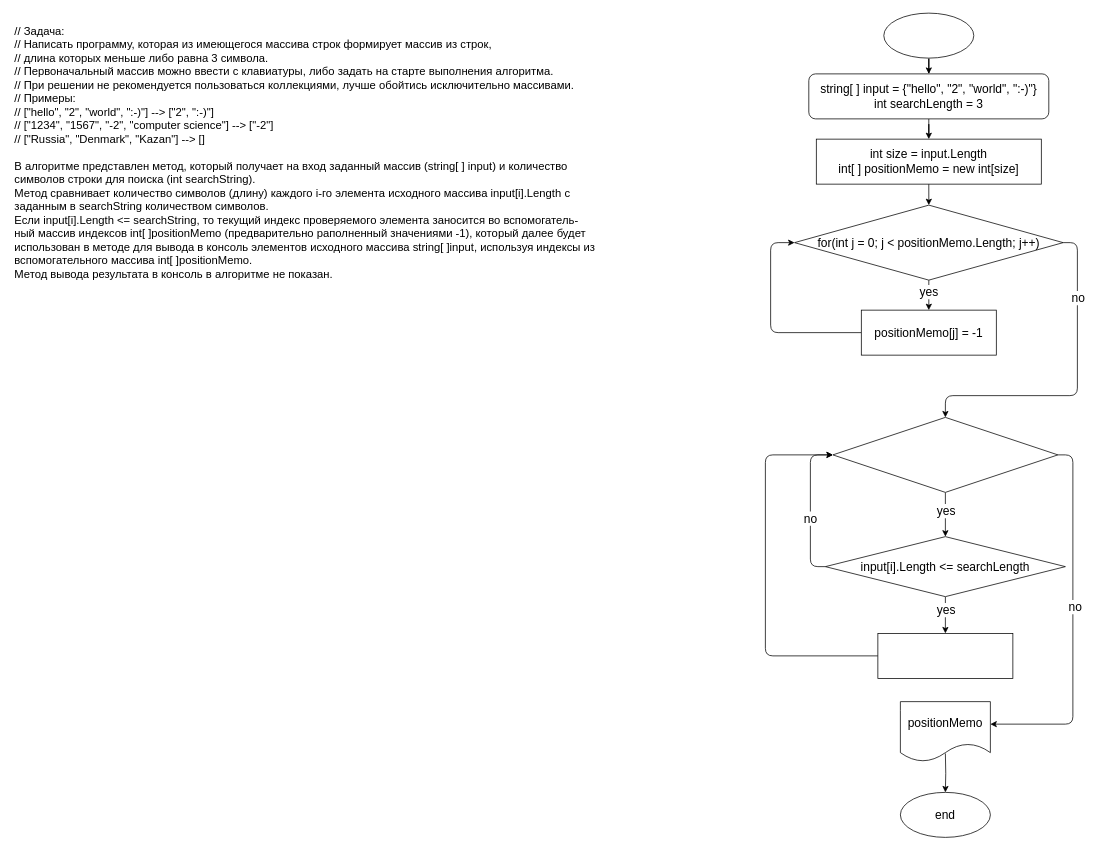
Image size: 1097x851. Some labels were removed from this diagram. The shapes that lost their labels are listed below. From the top down, each one's centre as x and y in pixels, then its label:
(928,35): start
(945,454): for(int i = 0; i < size; i++)
(945,655): positionMemo[i] = i
